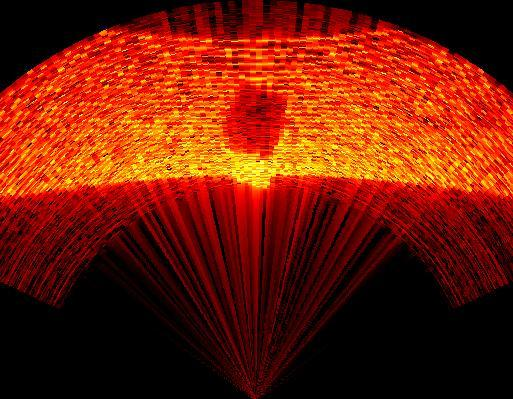box_crate: (216, 77, 290, 194)
